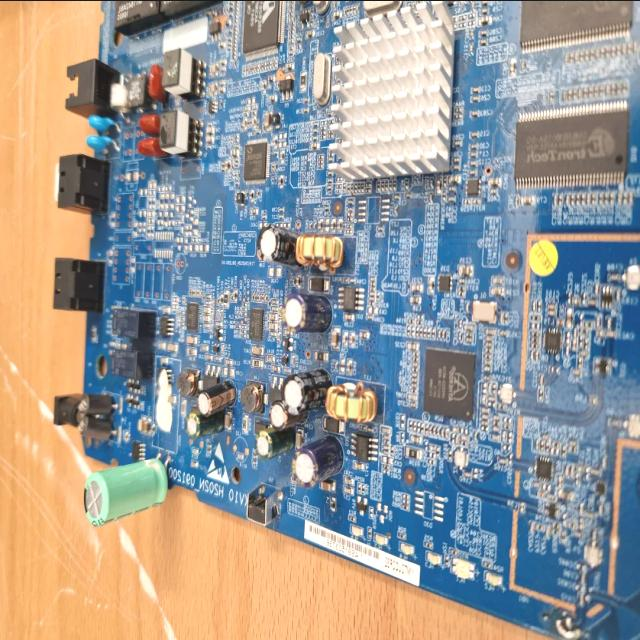A: (327, 382, 378, 422), (296, 234, 344, 270)
C: (84, 456, 168, 524), (292, 437, 342, 486), (282, 372, 330, 413), (258, 224, 302, 268), (282, 292, 331, 330), (198, 381, 236, 414), (256, 428, 294, 458), (269, 401, 306, 429), (187, 412, 224, 438)
E: (88, 134, 116, 154), (88, 114, 118, 132)
F: (58, 153, 109, 212), (66, 59, 120, 114), (53, 256, 105, 312)
